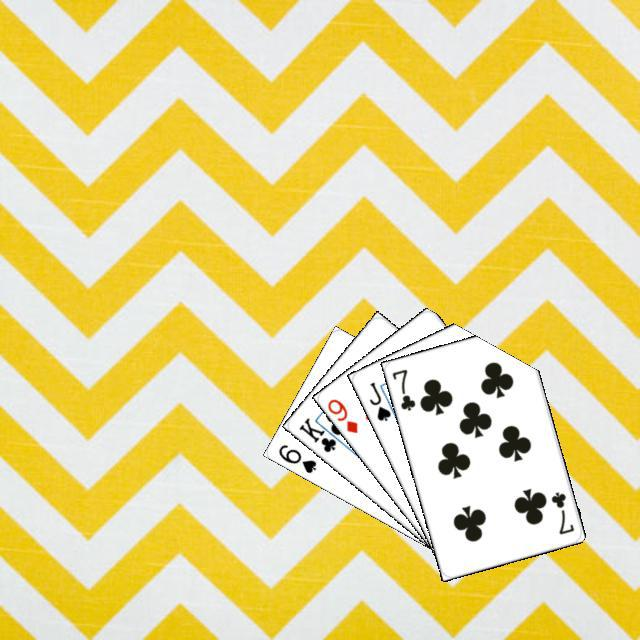6s: (273, 439, 318, 475)
7c: (387, 364, 417, 413), (546, 487, 576, 536)
9d: (322, 394, 360, 435)
Js: (364, 377, 393, 423)
Kc: (294, 412, 346, 454)
